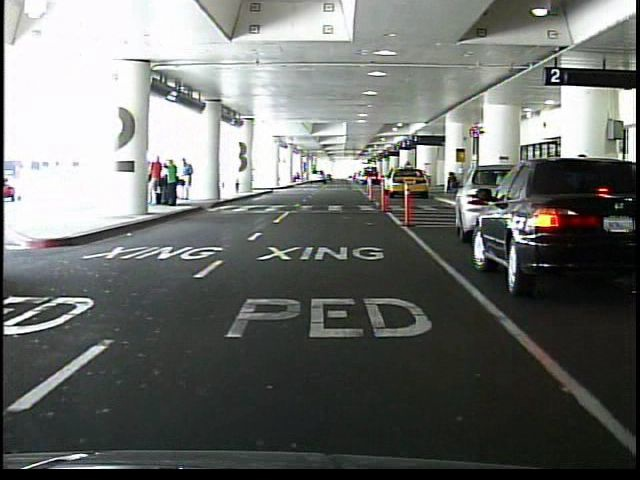person: (151, 153, 165, 207), (166, 158, 178, 207), (181, 158, 194, 202), (443, 171, 458, 195)
